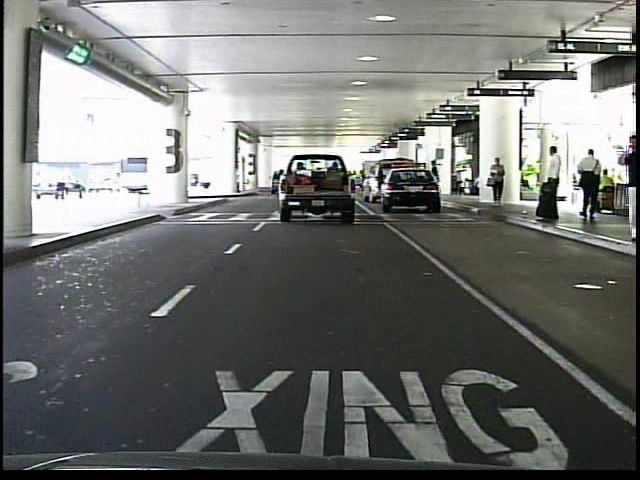person: (574, 145, 606, 225), (536, 143, 566, 226), (486, 154, 511, 212), (430, 158, 443, 201)
